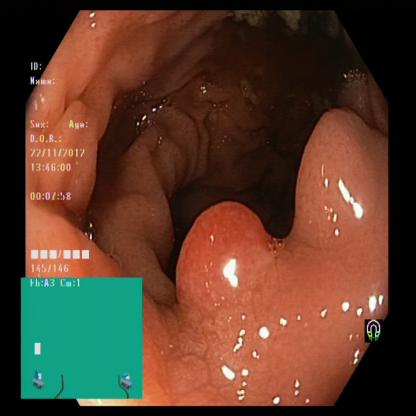Labels: (25, 56, 97, 276), (20, 279, 144, 402), (355, 305, 397, 354)
Polyps: (167, 198, 292, 340), (293, 98, 385, 256)
